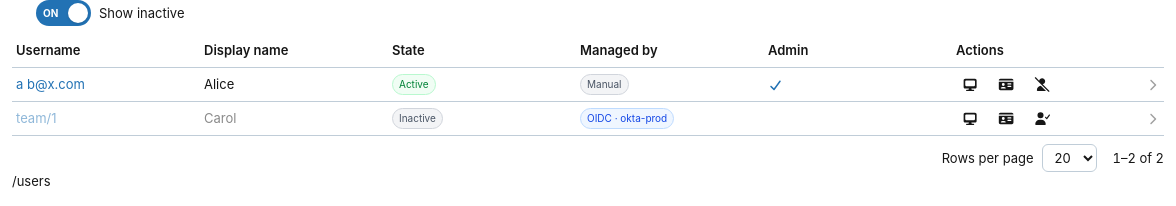
UsersPage › admin › row actions › navigates to the permissions page when the row is clicked
This screenshot has width=1176, height=206.
Click the text "Alice". click: (219, 84)
box: [204, 76, 234, 92]
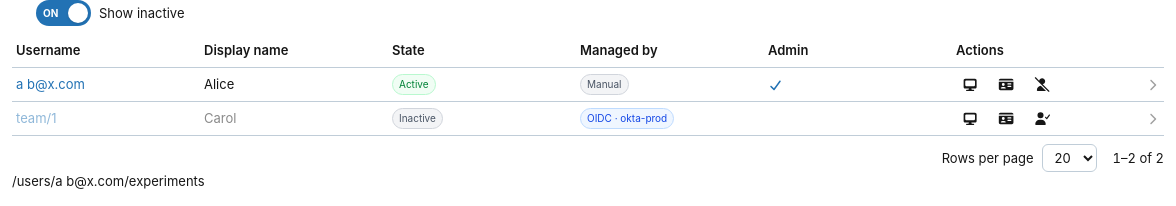
Now the text with test id "location" reads "/users/a b@x.com/experiments", box [12, 173, 205, 189]
